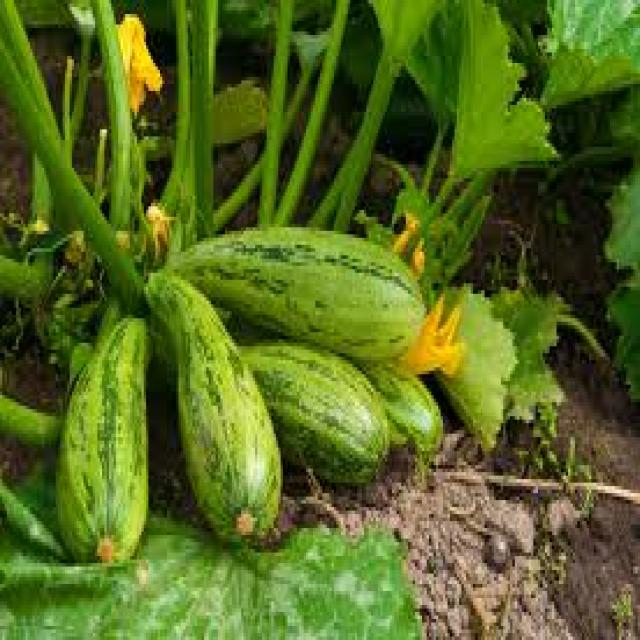Zucchini: (187, 227, 421, 353)
